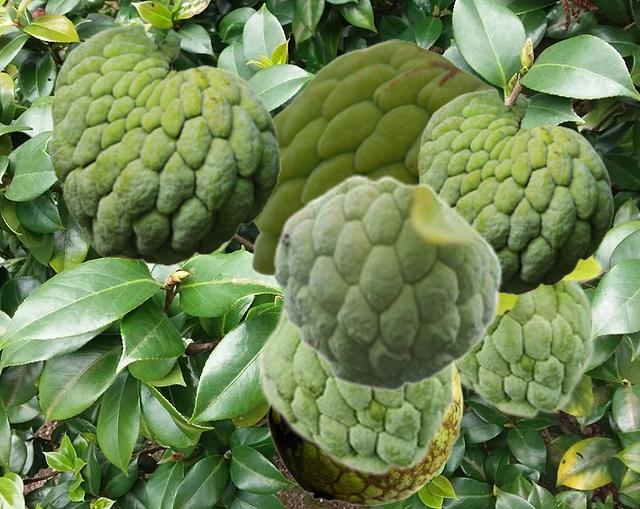atis: (251, 39, 522, 279), (49, 23, 279, 265), (272, 174, 503, 390), (416, 88, 612, 294), (256, 305, 461, 476), (266, 369, 462, 505), (458, 256, 603, 418)
